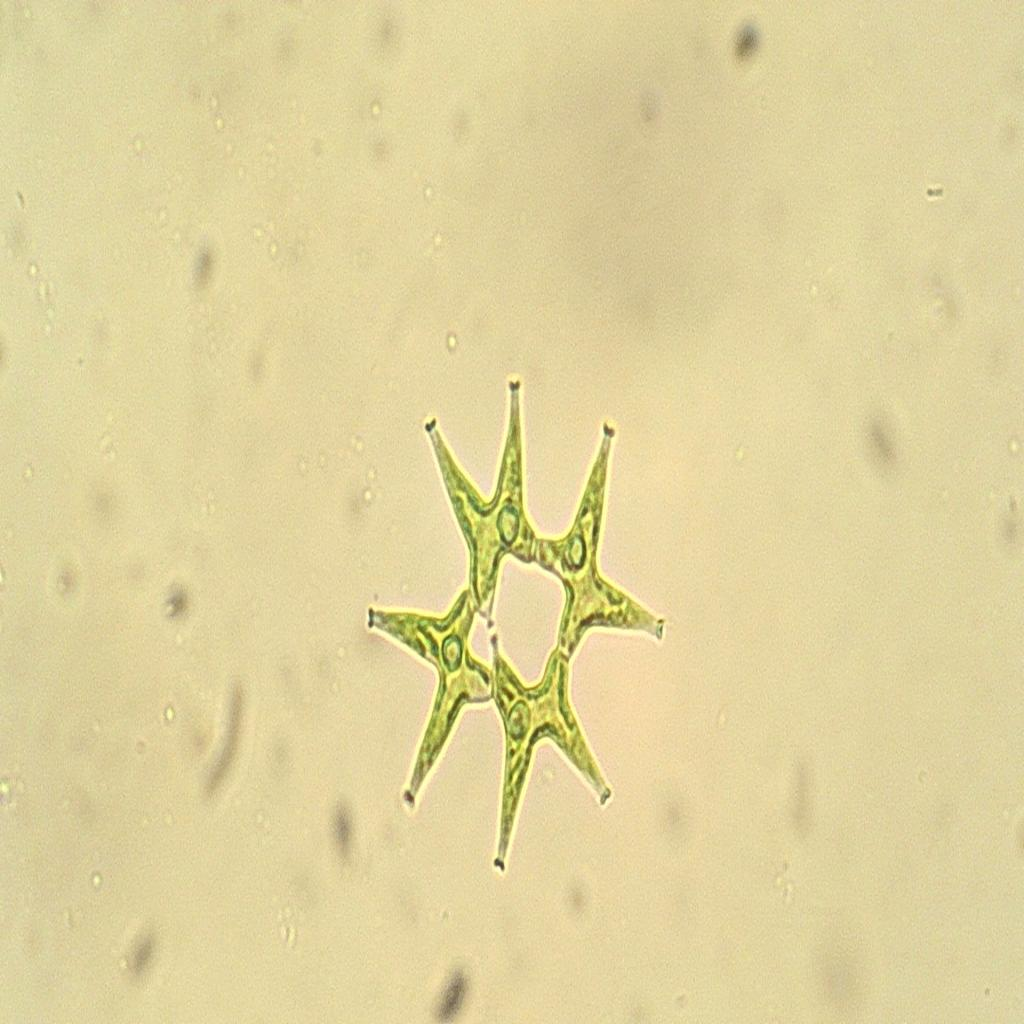Pediastrum_75FO: (360, 374, 672, 891)
